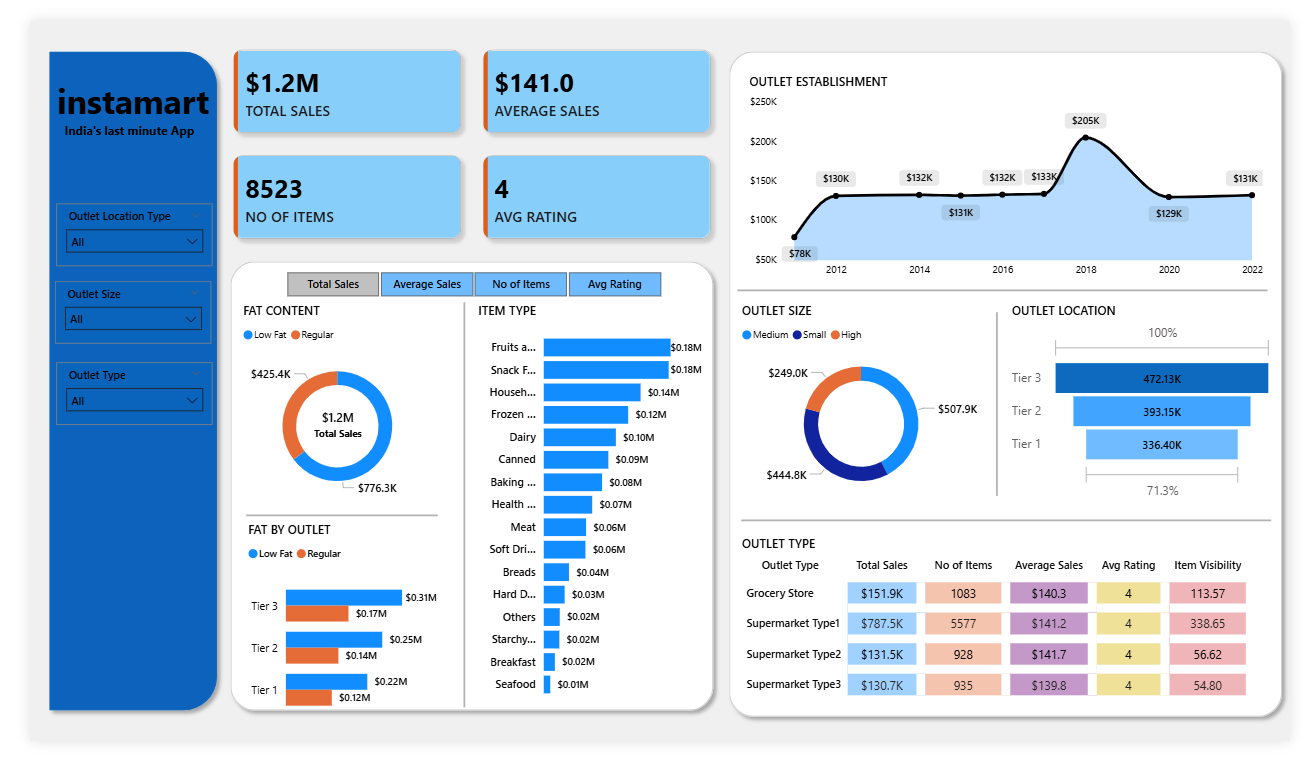

The dashboard page shown, as its layout file describes it:
{"tool":"powerbi","page":{"name":"Page 1","canvas":[1400,800],"ordinal":0},"visuals":[{"type":"shape","box":[12.5,25,204.2,750],"z":0},{"type":"textbox","box":[25,58.3,191.7,65.3],"z":1},{"type":"textbox","box":[33.3,106.9,165.3,30.6],"z":2},{"type":"cardVisual","fields":{"Data":["InstaMart Data.Total Sales","InstaMart Data.Average Sales","InstaMart Data.No of Items","InstaMart Data.Avg Rating"]},"box":[197.2,2.8,588.9,269.4],"z":3},{"type":"shape","box":[213.9,258.3,554.2,516.7],"z":4},{"type":"donutChart","title":"FAT CONTENT","fields":{"Category":["InstaMart Data.Item Fat Content"],"Y":["InstaMart Data.Total Sales"]},"box":[231.9,312.5,219.4,230.6],"z":5},{"type":"slicer","fields":{"Values":["Matrics.Matrics"]},"box":[259.7,272.2,465.3,40.3],"z":6},{"type":"cardVisual","fields":{"Data":["InstaMart Data.Total Sales"]},"box":[286.1,415.3,112.5,65.3],"z":7},{"type":"clusteredBarChart","title":"FAT BY OUTLET","fields":{"Y":["InstaMart Data.Total Sales"],"Category":["InstaMart Data.Outlet Location Type"],"Series":["InstaMart Data.Item Fat Content"]},"box":[237.5,555.6,219.4,230.6],"z":8},{"type":"shape","box":[240.3,543.1,212.5,12.5],"z":9},{"type":"shape","box":[473.6,312.5,18.1,450],"z":10},{"type":"barChart","title":"ITEM TYPE","fields":{"Category":["InstaMart Data.Item Type"],"Y":["InstaMart Data.Total Sales"]},"box":[493.1,312.5,258.3,450],"z":11},{"type":"shape","box":[768.1,25,631.9,756.9],"z":12},{"type":"lineChart","title":"OUTLET ESTABLISHMENT","fields":{"Category":["InstaMart Data.Outlet Establishment Year"],"Y":["InstaMart Data.Total Sales"]},"box":[794.4,58.3,580.6,234.7],"z":13},{"type":"shape","box":[786.1,293.1,588.9,12.5],"z":14},{"type":"donutChart","title":"OUTLET SIZE","fields":{"Y":["InstaMart Data.Total Sales"],"Category":["InstaMart Data.Outlet Size"]},"box":[786.1,312.5,275,225],"z":15},{"type":"shape","box":[1062.5,323.6,23.6,204.2],"z":16},{"type":"funnel","title":"OUTLET LOCATION","fields":{"Category":["InstaMart Data.Outlet Location Type"],"Y":["Sum(InstaMart Data.Sales)"]},"box":[1086.1,312.5,300,225],"z":17},{"type":"shape","box":[790.3,548.6,588.9,12.5],"z":18},{"type":"pivotTable","title":"OUTLET TYPE","fields":{"Rows":["InstaMart Data.Outlet Type"],"Values":["InstaMart Data.Total Sales","InstaMart Data.No of Items","InstaMart Data.Average Sales","InstaMart Data.Avg Rating","Sum(InstaMart Data.Item Visibility)"]},"box":[786.1,570.8,598.6,191.7],"z":19},{"type":"slicer","fields":{"Values":["InstaMart Data.Outlet Location Type"]},"box":[29.2,202.8,173.6,69.4],"z":20},{"type":"slicer","fields":{"Values":["InstaMart Data.Outlet Size"]},"box":[27.8,288.9,173.6,69.4],"z":21},{"type":"slicer","fields":{"Values":["InstaMart Data.Outlet Type"]},"box":[29.2,379.2,173.6,69.4],"z":22}]}

Visuals, with their boxes in screenshot pixels (x1, y1, x2, y2), scaled from the page's 1400x800 canvas onto the 1313x768 screenshot:
shape: bbox(12, 24, 203, 744)
textbox: bbox(23, 56, 203, 119)
textbox: bbox(31, 103, 186, 132)
cardVisual - InstaMart Data.Total Sales x InstaMart Data.Average Sales: bbox(185, 3, 737, 261)
shape: bbox(201, 248, 720, 744)
"FAT CONTENT" donutChart: bbox(217, 300, 423, 521)
slicer - Matrics.Matrics: bbox(244, 261, 680, 300)
cardVisual - InstaMart Data.Total Sales: bbox(268, 399, 374, 461)
"FAT BY OUTLET" clusteredBarChart: bbox(223, 533, 429, 755)
shape: bbox(225, 521, 425, 533)
shape: bbox(444, 300, 461, 732)
"ITEM TYPE" barChart: bbox(462, 300, 705, 732)
shape: bbox(720, 24, 1312, 751)
"OUTLET ESTABLISHMENT" lineChart: bbox(745, 56, 1290, 281)
shape: bbox(737, 281, 1290, 293)
"OUTLET SIZE" donutChart: bbox(737, 300, 995, 516)
shape: bbox(996, 311, 1019, 507)
"OUTLET LOCATION" funnel: bbox(1019, 300, 1300, 516)
shape: bbox(741, 527, 1293, 539)
"OUTLET TYPE" pivotTable: bbox(737, 548, 1299, 732)
slicer - InstaMart Data.Outlet Location Type: bbox(27, 195, 190, 261)
slicer - InstaMart Data.Outlet Size: bbox(26, 277, 189, 344)
slicer - InstaMart Data.Outlet Type: bbox(27, 364, 190, 431)
